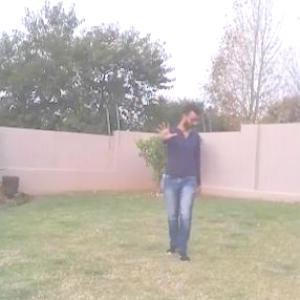follow_hand: (153, 117, 177, 140)
